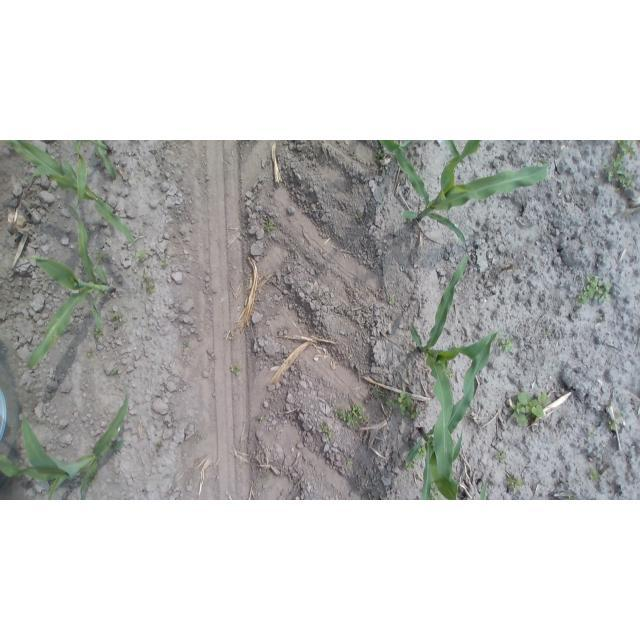Maize: (410, 250, 497, 500), (375, 141, 551, 247), (22, 197, 119, 371), (0, 382, 136, 500), (7, 142, 141, 251), (417, 335, 500, 500), (75, 140, 118, 212), (398, 140, 466, 164)
Weeds: (601, 140, 637, 192), (508, 391, 551, 428), (575, 275, 614, 310), (334, 403, 370, 428), (397, 391, 419, 419), (505, 474, 526, 491), (141, 272, 156, 294), (497, 337, 514, 354), (428, 481, 444, 499), (319, 421, 334, 440), (588, 467, 604, 482), (95, 250, 110, 265), (265, 215, 276, 233), (417, 443, 428, 461), (230, 363, 244, 376), (135, 250, 148, 263), (404, 458, 417, 470), (93, 326, 104, 340), (88, 474, 99, 487), (495, 451, 508, 462), (373, 388, 384, 401), (609, 420, 620, 431), (385, 294, 395, 306), (110, 312, 122, 322), (160, 258, 171, 268), (277, 325, 289, 334), (588, 426, 598, 436), (111, 366, 121, 376), (111, 320, 121, 330), (387, 399, 398, 408), (446, 368, 454, 380), (354, 213, 363, 223), (564, 494, 579, 500), (376, 150, 385, 160), (86, 349, 96, 357), (155, 440, 163, 450), (229, 333, 237, 341), (599, 315, 607, 323), (257, 415, 266, 422), (183, 342, 192, 349), (348, 459, 355, 466), (620, 413, 625, 418), (545, 332, 551, 336), (373, 496, 379, 500)
